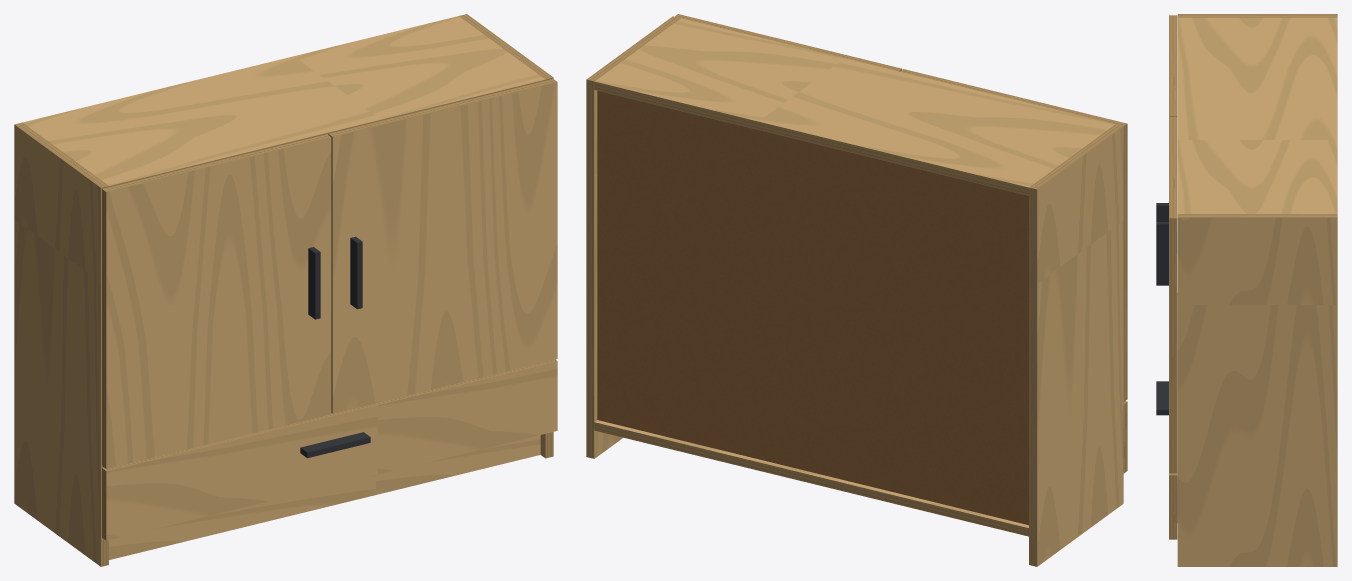
Rendered from HIN-CON-std.glb.
The picture shows the model from 3 angles, left to right: view 1: azimuth 30°, elevation 25°; view 2: azimuth 150°, elevation 25°; view 3: azimuth 270°, elevation 25°; orthographic projection. The views are drawn at different scales.
Parts seen in each view (by area): view 1: door-r:sheet:eyJtIjoicGx5Iiwic2lkZSI6ImZhY2UiLCJzZWVkIjoxLCJ, door-l:sheet:eyJtIjoicGx5Iiwic2lkZSI6ImZhY2UiLCJzZWVkIjoyLCJ, top:sheet:eyJtIjoicGx5Iiwic2lkZSI6ImZhY2UiLCJzZWVkIjo2LCJ2ZW, side-l:sheet:eyJtIjoicGx5Iiwic2lkZSI6ImZhY2UiLCJzZWVkIjoxLCJ, d1-front:sheet:eyJtIjoicGx5Iiwic2lkZSI6ImZhY2UiLCJzZWVkIjo2L, plinth:sheet:eyJtIjoicGx5Iiwic2lkZSI6ImZhY2UiLCJzZWVkIjozLCJ, pull, door-l:sheet:eyJtIjoicGx5Iiwic2lkZSI6ImVkZ2UtbG9uZyIsInNlZWQ, d1-front:sheet:eyJtIjoicGx5Iiwic2lkZSI6ImVkZ2UtbG9uZyIsInNlZ, door-l:sheet:eyJtIjoicGx5Iiwic2lkZSI6ImVkZ2UtZW5kIiwic2VlZCI, door-r:sheet:eyJtIjoicGx5Iiwic2lkZSI6ImVkZ2UtZW5kIiwic2VlZCI, top:sheet:eyJtIjoicGx5Iiwic2lkZSI6ImVkZ2UtbG9uZyIsInNlZWQiOj (+2 smaller); view 2: back:sheet:eyJtIjoibWRmIiwic2lkZSI6ImZhY2UiLCJzZWVkIjoyLCJ0a, top:sheet:eyJtIjoicGx5Iiwic2lkZSI6ImZhY2UiLCJzZWVkIjo2LCJ2ZW, side-l:sheet:eyJtIjoicGx5Iiwic2lkZSI6ImZhY2UiLCJzZWVkIjoxLCJ, top:sheet:eyJtIjoicGx5Iiwic2lkZSI6ImVkZ2UtbG9uZyIsInNlZWQiOj, bottom:sheet:eyJtIjoicGx5Iiwic2lkZSI6ImVkZ2UtbG9uZyIsInNlZWQ, side-r:sheet:eyJtIjoicGx5Iiwic2lkZSI6ImVkZ2UtbG9uZyIsInNlZWQ, side-l:sheet:eyJtIjoicGx5Iiwic2lkZSI6ImVkZ2UtbG9uZyIsInNlZWQ, side-r:sheet:eyJtIjoicGx5Iiwic2lkZSI6ImZhY2UiLCJzZWVkIjozLCJ, bottom:sheet:eyJtIjoicGx5Iiwic2lkZSI6ImZhY2UiLCJzZWVkIjowLCJ, door-l:sheet:eyJtIjoicGx5Iiwic2lkZSI6ImVkZ2UtbG9uZyIsInNlZWQ, door-r:sheet:eyJtIjoicGx5Iiwic2lkZSI6ImVkZ2UtZW5kIiwic2VlZCI, door-l:sheet:eyJtIjoicGx5Iiwic2lkZSI6ImVkZ2UtZW5kIiwic2VlZCI (+2 smaller); view 3: side-r:sheet:eyJtIjoicGx5Iiwic2lkZSI6ImZhY2UiLCJzZWVkIjozLCJ, top:sheet:eyJtIjoicGx5Iiwic2lkZSI6ImZhY2UiLCJzZWVkIjo2LCJ2ZW, door-r:sheet:eyJtIjoicGx5Iiwic2lkZSI6ImVkZ2UtbG9uZyIsInNlZWQ, pull, door-l:sheet:eyJtIjoicGx5Iiwic2lkZSI6ImVkZ2UtZW5kIiwic2VlZCI, door-r:sheet:eyJtIjoicGx5Iiwic2lkZSI6ImVkZ2UtZW5kIiwic2VlZCI, side-l:sheet:eyJtIjoicGx5Iiwic2lkZSI6ImVkZ2UtZW5kIiwic2VlZCI, side-r:sheet:eyJtIjoicGx5Iiwic2lkZSI6ImVkZ2UtZW5kIiwic2VlZCI, d1-front:sheet:eyJtIjoicGx5Iiwic2lkZSI6ImVkZ2UtZW5kIiwic2VlZ.
Part boxes in pixels (x1,y1,x2,y2): door-r:sheet:eyJtIjoicGx5Iiwic2lkZSI6ImZhY2UiLCJzZWVkIjoxLCJ: [332, 82, 557, 413]; door-l:sheet:eyJtIjoicGx5Iiwic2lkZSI6ImZhY2UiLCJzZWVkIjoyLCJ: [106, 137, 331, 468]; top:sheet:eyJtIjoicGx5Iiwic2lkZSI6ImZhY2UiLCJzZWVkIjo2LCJ2ZW: [22, 16, 545, 185]; side-l:sheet:eyJtIjoicGx5Iiwic2lkZSI6ImZhY2UiLCJzZWVkIjoxLCJ: [14, 125, 100, 566]; d1-front:sheet:eyJtIjoicGx5Iiwic2lkZSI6ImZhY2UiLCJzZWVkIjo2L: [106, 361, 557, 540]; plinth:sheet:eyJtIjoicGx5Iiwic2lkZSI6ImZhY2UiLCJzZWVkIjozLCJ: [109, 435, 540, 559]; pull: [300, 236, 370, 458]; door-l:sheet:eyJtIjoicGx5Iiwic2lkZSI6ImVkZ2UtbG9uZyIsInNlZWQ: [102, 189, 106, 468]; d1-front:sheet:eyJtIjoicGx5Iiwic2lkZSI6ImVkZ2UtbG9uZyIsInNlZ: [102, 359, 557, 470]; door-l:sheet:eyJtIjoicGx5Iiwic2lkZSI6ImVkZ2UtZW5kIiwic2VlZCI: [102, 134, 330, 191]; door-r:sheet:eyJtIjoicGx5Iiwic2lkZSI6ImVkZ2UtZW5kIiwic2VlZCI: [328, 79, 556, 136]; top:sheet:eyJtIjoicGx5Iiwic2lkZSI6ImVkZ2UtbG9uZyIsInNlZWQiOj: [109, 79, 545, 186]; back:sheet:eyJtIjoibWRmIiwic2lkZSI6ImZhY2UiLCJzZWVkIjoyLCJ0a: [597, 91, 1028, 525]; top:sheet:eyJtIjoicGx5Iiwic2lkZSI6ImZhY2UiLCJzZWVkIjo2LCJ2ZW: [595, 18, 1114, 187]; side-l:sheet:eyJtIjoicGx5Iiwic2lkZSI6ImZhY2UiLCJzZWVkIjoxLCJ: [1037, 126, 1123, 566]; top:sheet:eyJtIjoicGx5Iiwic2lkZSI6ImVkZ2UtbG9uZyIsInNlZWQiOj: [594, 81, 1028, 195]; bottom:sheet:eyJtIjoicGx5Iiwic2lkZSI6ImVkZ2UtbG9uZyIsInNlZWQ: [594, 422, 1028, 536]; side-r:sheet:eyJtIjoicGx5Iiwic2lkZSI6ImVkZ2UtbG9uZyIsInNlZWQ: [586, 79, 594, 458]; side-l:sheet:eyJtIjoicGx5Iiwic2lkZSI6ImVkZ2UtbG9uZyIsInNlZWQ: [1029, 187, 1037, 566]; side-r:sheet:eyJtIjoicGx5Iiwic2lkZSI6ImZhY2UiLCJzZWVkIjozLCJ: [594, 90, 622, 458]; bottom:sheet:eyJtIjoicGx5Iiwic2lkZSI6ImZhY2UiLCJzZWVkIjowLCJ: [595, 420, 1028, 527]; door-l:sheet:eyJtIjoicGx5Iiwic2lkZSI6ImVkZ2UtbG9uZyIsInNlZWQ: [1123, 124, 1127, 401]; door-r:sheet:eyJtIjoicGx5Iiwic2lkZSI6ImVkZ2UtZW5kIiwic2VlZCI: [675, 14, 901, 71]; door-l:sheet:eyJtIjoicGx5Iiwic2lkZSI6ImVkZ2UtZW5kIiwic2VlZCI: [900, 69, 1126, 126]; side-r:sheet:eyJtIjoicGx5Iiwic2lkZSI6ImZhY2UiLCJzZWVkIjozLCJ: [1177, 217, 1337, 566]; top:sheet:eyJtIjoicGx5Iiwic2lkZSI6ImZhY2UiLCJzZWVkIjo2LCJ2ZW: [1177, 17, 1337, 213]; door-r:sheet:eyJtIjoicGx5Iiwic2lkZSI6ImVkZ2UtbG9uZyIsInNlZWQ: [1169, 218, 1177, 473]; pull: [1156, 203, 1168, 415]; door-l:sheet:eyJtIjoicGx5Iiwic2lkZSI6ImVkZ2UtZW5kIiwic2VlZCI: [1169, 15, 1177, 116]; door-r:sheet:eyJtIjoicGx5Iiwic2lkZSI6ImVkZ2UtZW5kIiwic2VlZCI: [1169, 117, 1177, 218]; side-l:sheet:eyJtIjoicGx5Iiwic2lkZSI6ImVkZ2UtZW5kIiwic2VlZCI: [1177, 14, 1337, 17]; side-r:sheet:eyJtIjoicGx5Iiwic2lkZSI6ImVkZ2UtZW5kIiwic2VlZCI: [1177, 214, 1337, 217]; d1-front:sheet:eyJtIjoicGx5Iiwic2lkZSI6ImVkZ2UtZW5kIiwic2VlZ: [1169, 475, 1177, 539].
Bounding box in the file's own units: 1 × 0.8 × 0.3766.
Materials: 55 (54 with a texture image).
